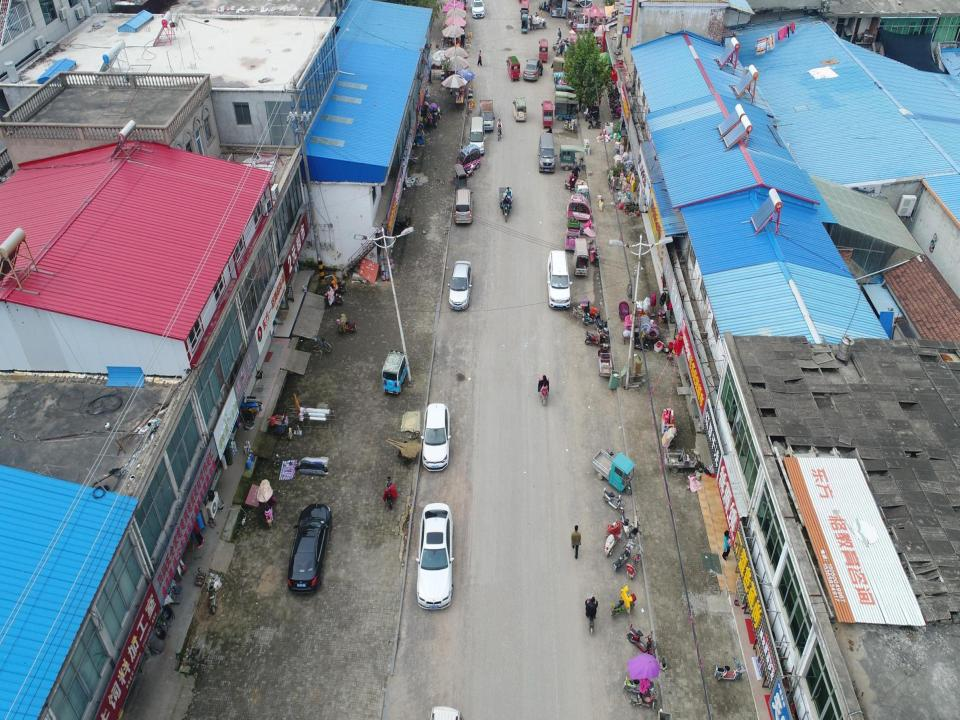car: (416, 501, 454, 610), (286, 503, 331, 594), (420, 401, 452, 472), (447, 258, 472, 311), (454, 186, 474, 225), (524, 58, 543, 82), (470, 0, 486, 19)
truck: (478, 98, 494, 132)
van: (544, 249, 571, 311), (538, 133, 558, 173), (468, 116, 487, 157)
